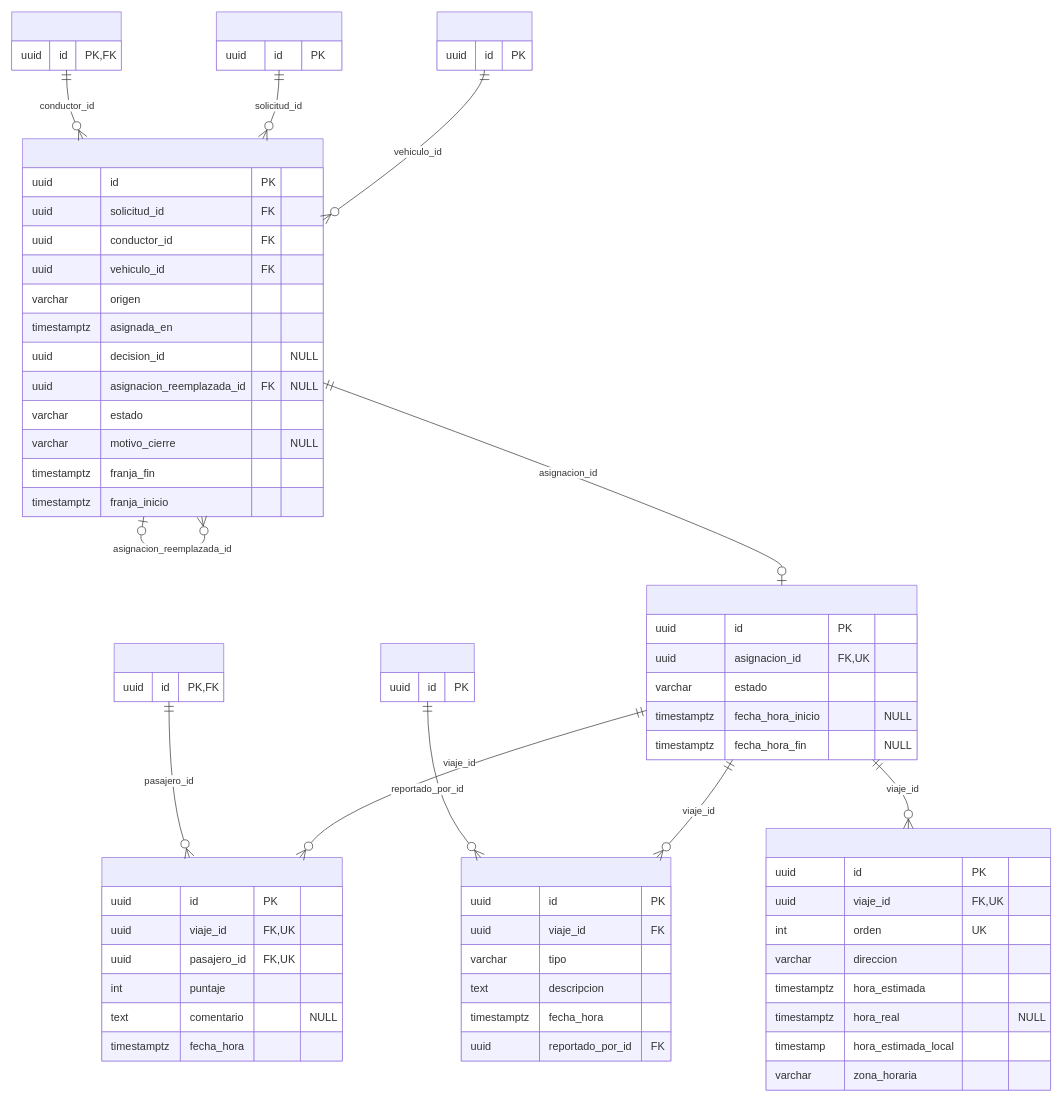
Image size: 1063x1102. Some labels were removed from this diagram. Here are the shapes that lost their labels. From the top down, the box of each, then its label:
(11, 11, 121, 70): ops.conductor
(216, 11, 342, 70): ops.solicitud_viaje
(436, 11, 532, 70): ops.vehiculo
(22, 138, 323, 517): ops.asignacion
(113, 643, 224, 702): ops.pasajero
(380, 643, 474, 702): ops.usuario
(646, 585, 917, 760): ops.viaje
(101, 857, 342, 1061): ops.calificacion
(461, 857, 671, 1061): ops.incidente
(765, 828, 1051, 1090): ops.parada
